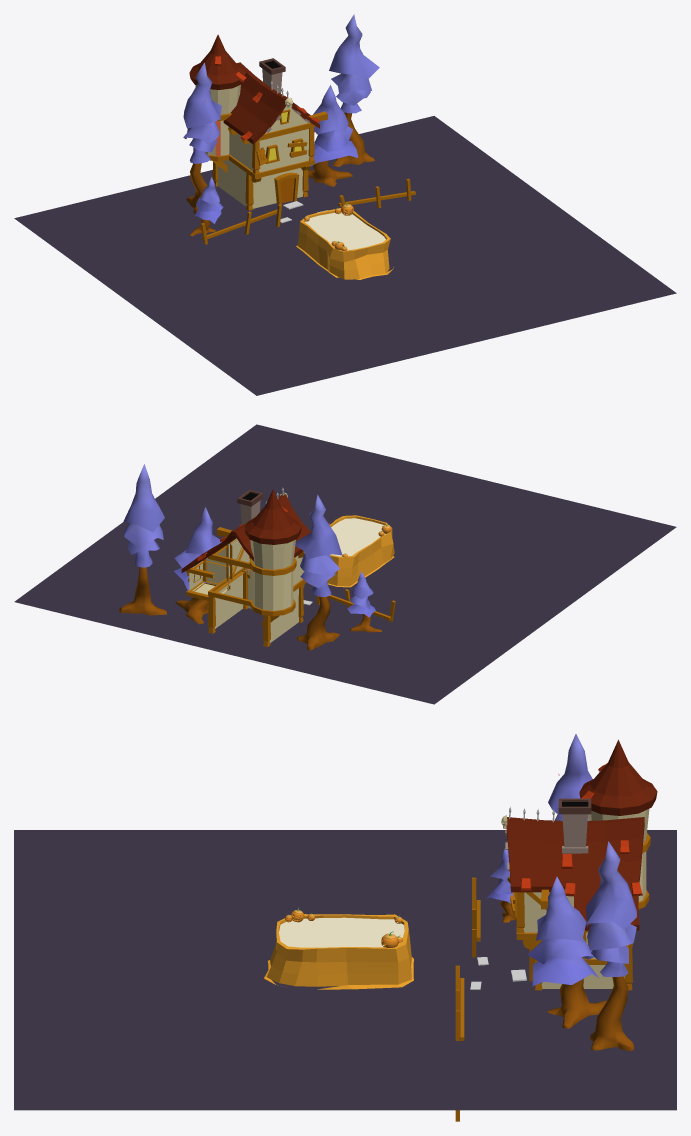
Rendered from BG_Halloween.fbx.
3 renders of one model, top to bottom at view 1: azimuth 30°, elevation 25°; view 2: azimuth 150°, elevation 25°; view 3: azimuth 270°, elevation 25°, orthographic. The views are drawn at different scales.
Parts seen in each view (by area): view 1: ground, house, Battle; view 2: ground, house, Battle; view 3: ground, house, Battle.
Part boxes in pixels (bbox=[...]): ground: bbox=[14, 116, 676, 395]; house: bbox=[183, 14, 415, 244]; Battle: bbox=[296, 202, 393, 279]; ground: bbox=[14, 424, 676, 704]; house: bbox=[119, 464, 395, 650]; Battle: bbox=[327, 515, 394, 587]; ground: bbox=[14, 830, 676, 1110]; house: bbox=[455, 734, 657, 1121]; Battle: bbox=[264, 907, 413, 989].
Bounding box in the file's own units: 2541 × 1232 × 2541.
1 material, 1 textured.
